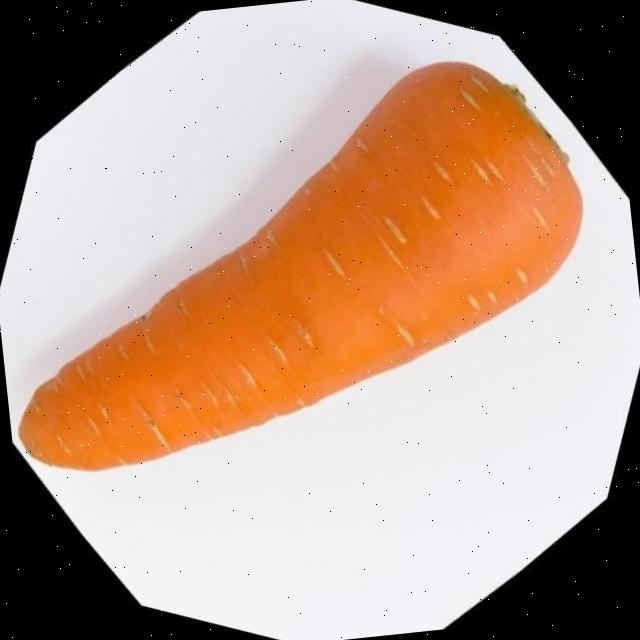carrot: (20, 62, 581, 470)
